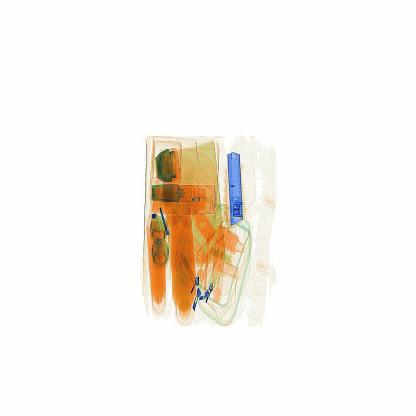pliers: (215, 148, 250, 233)
